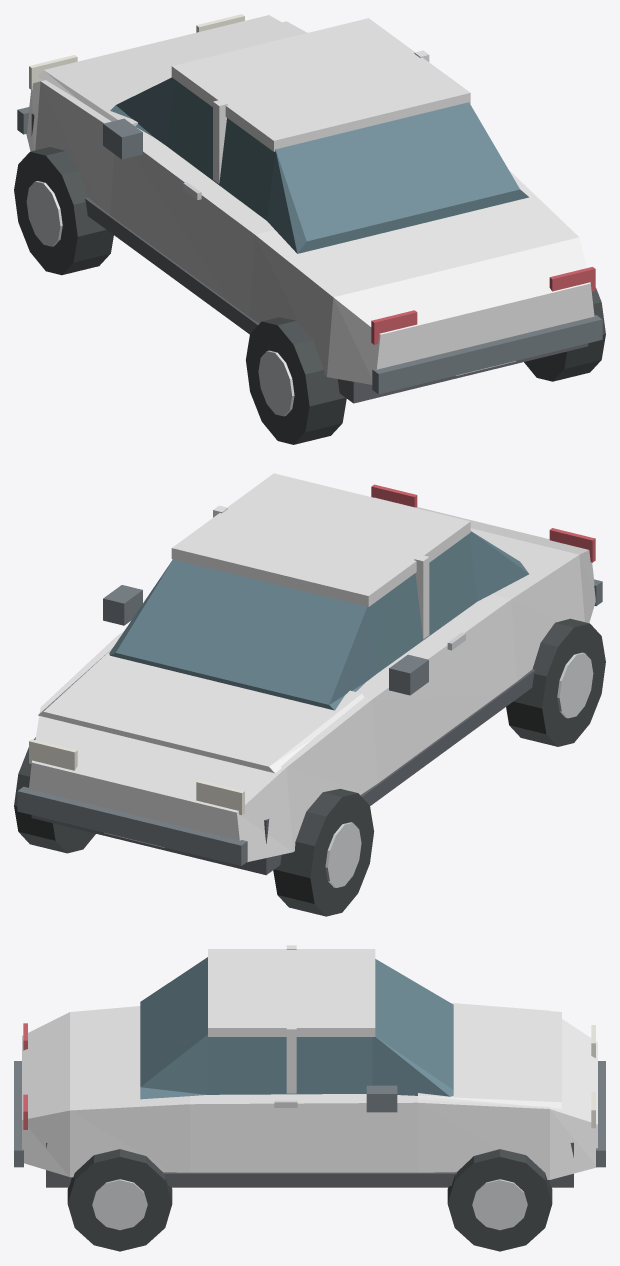
Rendered from gol.glb.
3 renders of one model, top to bottom at view 1: azimuth 30°, elevation 25°; view 2: azimuth 150°, elevation 25°; view 3: azimuth 270°, elevation 25°, orthographic. The views are drawn at different scales.
Visible parts, largest first — view 1: body_0001, cab_glass_0022, roof_0023, hood_0002, wheel_tire_0006, wheel_tire_0004, bumper_0027, lower_sill_0012, wheel_tire_0015, wheel_rim_0007, wheel_rim_0005, chassis_0000 (+4 smaller); view 2: body_0001, cab_glass_0022, roof_0023, hood_0002, wheel_tire_0004, wheel_tire_0006, bumper_0026, lower_sill_0012, wheel_tire_0013, wheel_rim_0007, wheel_rim_0005, chassis_0000 (+7 smaller); view 3: body_0001, cab_glass_0022, roof_0023, hood_0002, wheel_tire_0015, wheel_tire_0013, lower_sill_0021, wheel_rim_0014, wheel_rim_0016, chassis_0000, bumper_0026, bumper_0027 (+2 smaller).
Boxes of the visible parts, x1,y1,x2,y2 form: body_0001: [26, 21, 594, 384]; cab_glass_0022: [110, 77, 528, 253]; roof_0023: [171, 18, 470, 151]; hood_0002: [38, 15, 302, 126]; wheel_tire_0006: [246, 317, 346, 444]; wheel_tire_0004: [14, 147, 113, 275]; bumper_0027: [372, 315, 602, 394]; lower_sill_0012: [84, 197, 258, 334]; wheel_tire_0015: [524, 287, 605, 381]; wheel_rim_0007: [258, 350, 294, 416]; wheel_rim_0005: [26, 181, 62, 246]; chassis_0000: [31, 113, 588, 403]; body_0001: [29, 497, 595, 862]; cab_glass_0022: [109, 531, 528, 710]; roof_0023: [171, 473, 470, 606]; hood_0002: [38, 649, 364, 773]; wheel_tire_0004: [273, 788, 374, 916]; wheel_tire_0006: [506, 618, 605, 746]; bumper_0026: [17, 786, 247, 865]; lower_sill_0012: [360, 669, 535, 805]; wheel_tire_0013: [14, 737, 95, 853]; wheel_rim_0007: [557, 652, 593, 718]; wheel_rim_0005: [325, 822, 361, 887]; chassis_0000: [31, 815, 281, 875]; body_0001: [22, 1003, 597, 1179]; cab_glass_0022: [140, 957, 453, 1099]; roof_0023: [208, 949, 375, 1036]; hood_0002: [418, 1004, 561, 1108]; wheel_tire_0015: [67, 1149, 172, 1251]; wheel_tire_0013: [447, 1149, 552, 1251]; lower_sill_0021: [163, 1172, 456, 1185]; wheel_rim_0014: [472, 1179, 527, 1230]; wheel_rim_0016: [92, 1179, 147, 1230]; chassis_0000: [46, 1142, 573, 1187]; bumper_0026: [596, 1061, 605, 1167]; bumper_0027: [14, 1061, 23, 1167].
Size of the model in its own units: 1.89 by 1.47 by 3.85.
